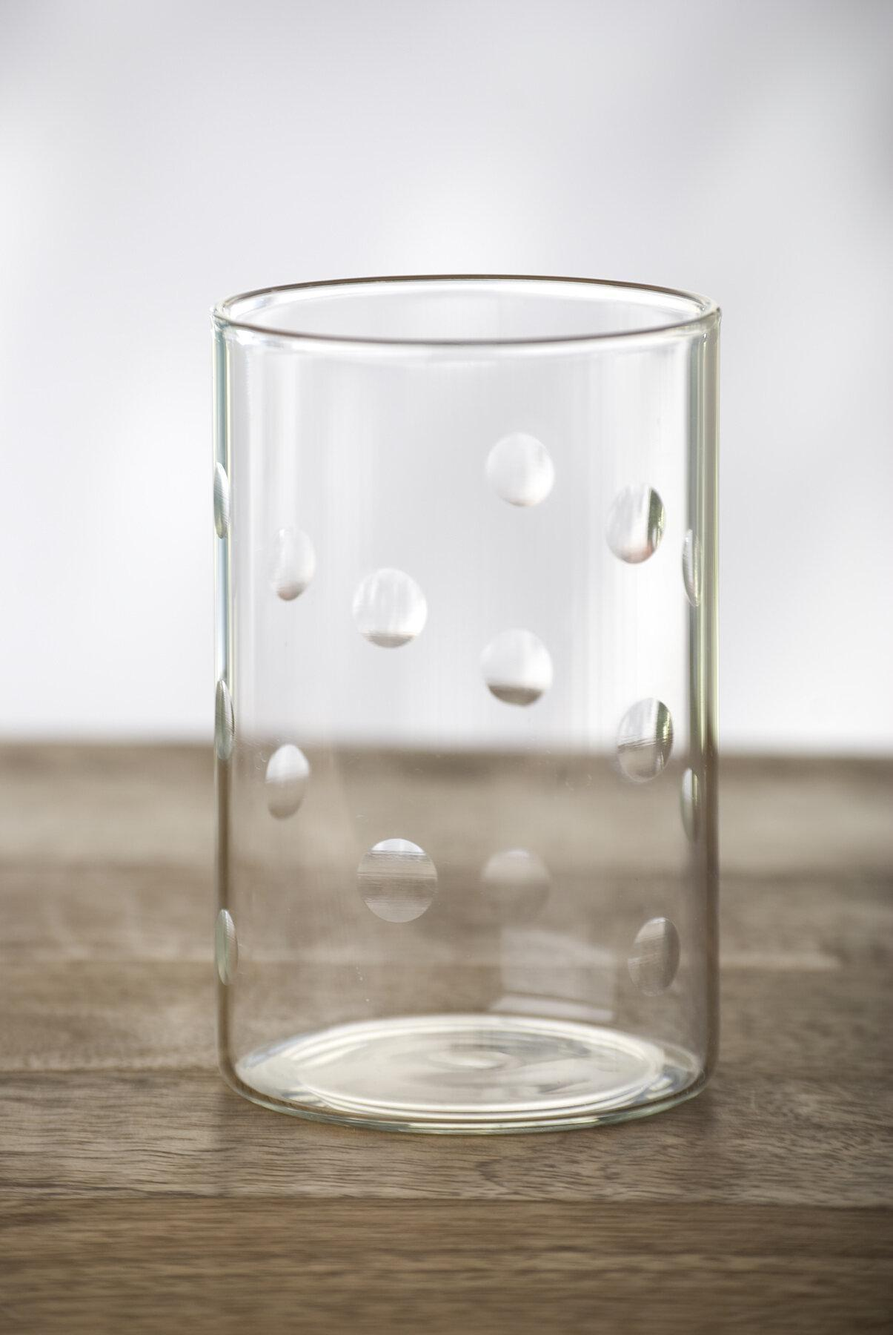glass-normal: (202, 269, 724, 1133)
